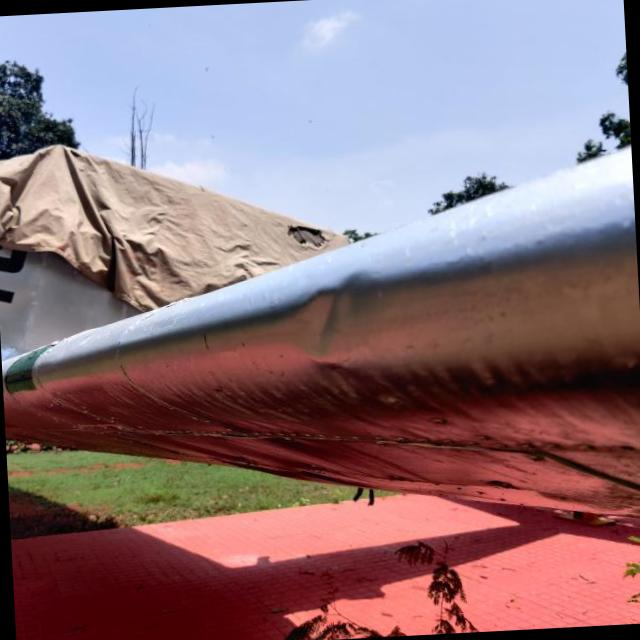Dent: (271, 234, 395, 365)
